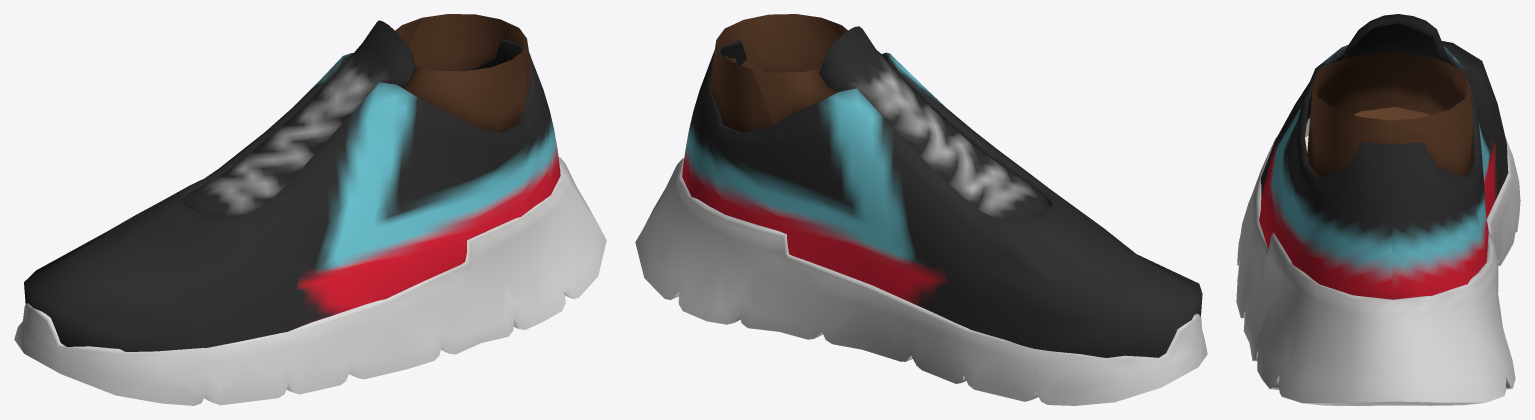
Rendered from op_bota.glb.
3 renders of one model, left to right at view 1: azimuth 30°, elevation 25°; view 2: azimuth 150°, elevation 25°; view 3: azimuth 270°, elevation 25°, orthographic. The views are drawn at different scales.
Parts seen in each view (by area): view 1: Ch03; view 2: Ch03; view 3: Ch03.
Boxes of the visible parts, bbox=[...] form: Ch03: bbox=[14, 14, 606, 405]; Ch03: bbox=[635, 14, 1207, 405]; Ch03: bbox=[1236, 14, 1520, 405].
Size of the model in its own units: 0.2958 by 0.142 by 0.1143.
Materials: 1 (1 with a texture image).
